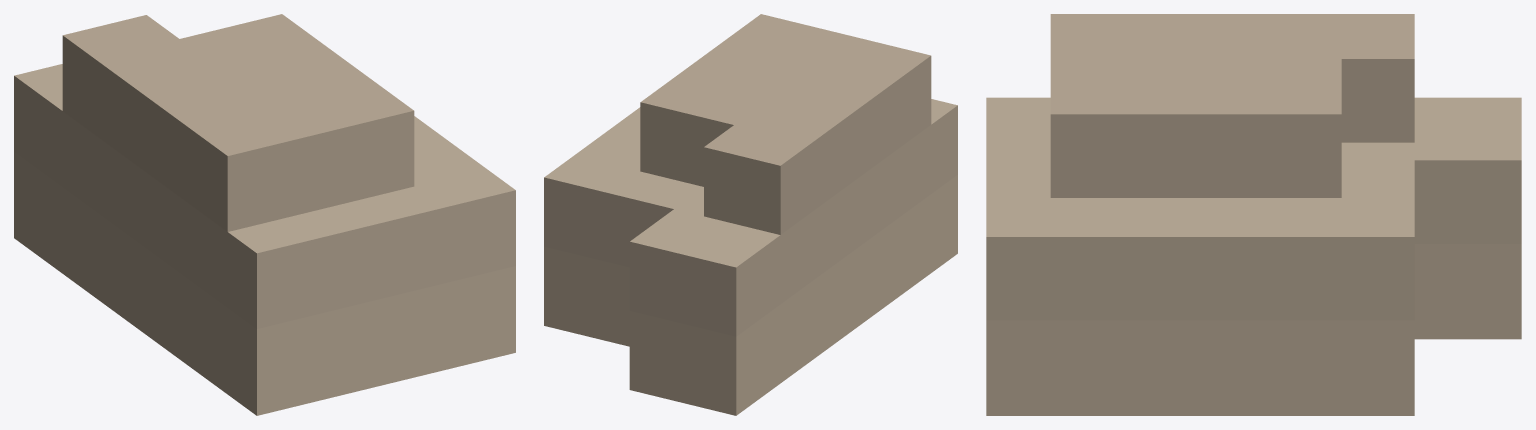
The model's file is massing.glb.
3 views of the same model, side by side, from view 1: azimuth 30°, elevation 25°; view 2: azimuth 150°, elevation 25°; view 3: azimuth 270°, elevation 25° (orthographic). The views are drawn at different scales.
Parts seen in each view (by area): view 1: main/floor3/0/0, main/floor2/0/0, main/floor1/0/0; view 2: main/floor3/0/0, main/floor2/0/0, main/floor1/0/0; view 3: main/floor2/0/0, main/floor3/0/0, main/floor1/0/0.
Boxes of the visible parts, left/top/right/bottom form: main/floor3/0/0: left=62, top=14, right=414, bottom=231; main/floor2/0/0: left=14, top=64, right=515, bottom=328; main/floor1/0/0: left=14, top=151, right=515, bottom=415; main/floor3/0/0: left=640, top=14, right=931, bottom=234; main/floor2/0/0: left=544, top=99, right=957, bottom=336; main/floor1/0/0: left=544, top=175, right=957, bottom=415; main/floor2/0/0: left=986, top=97, right=1521, bottom=320; main/floor3/0/0: left=1050, top=14, right=1414, bottom=197; main/floor1/0/0: left=986, top=244, right=1521, bottom=415.
Size of the model in its own units: 10 by 8.8 by 16.24.
